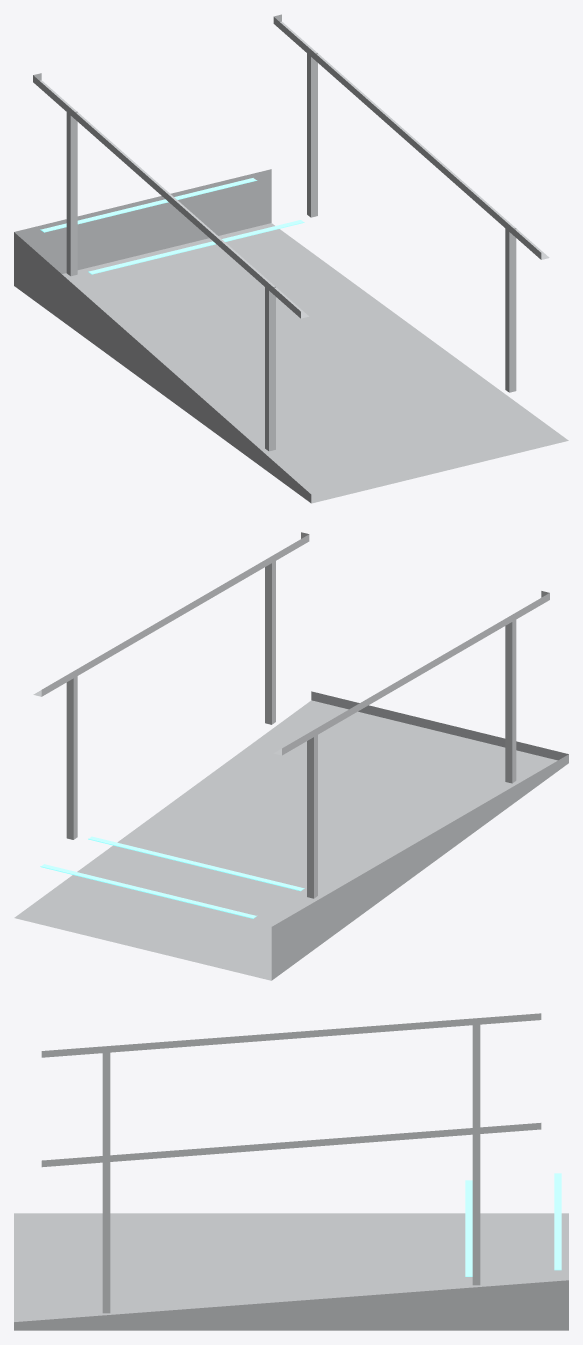
The model's file is ext_kerb_ramp_02.glb.
The picture shows the model from 3 angles, top to bottom: view 1: azimuth 30°, elevation 25°; view 2: azimuth 150°, elevation 25°; view 3: azimuth 270°, elevation 25°; orthographic projection. The views are drawn at different scales.
Visible parts, largest first — view 1: Ramp, Rail_Posts, Handrails, Tactile_Bars; view 2: Ramp, Rail_Posts, Handrails, Tactile_Bars; view 3: Ramp, Handrails, Rail_Posts, Tactile_Bars.
Boxes of the visible parts, x1,y1,x2,y2 form: Ramp: [14, 169, 568, 503]; Rail_Posts: [66, 53, 516, 451]; Handrails: [33, 14, 549, 318]; Tactile_Bars: [40, 178, 304, 274]; Ramp: [14, 691, 568, 980]; Rail_Posts: [66, 561, 516, 898]; Handrails: [33, 532, 549, 755]; Tactile_Bars: [40, 836, 304, 918]; Ramp: [14, 1213, 568, 1330]; Handrails: [41, 1013, 541, 1167]; Rail_Posts: [102, 1024, 480, 1313]; Tactile_Bars: [465, 1173, 561, 1276].
Size of the model in its own units: 1.5 by 1.23 by 3.
